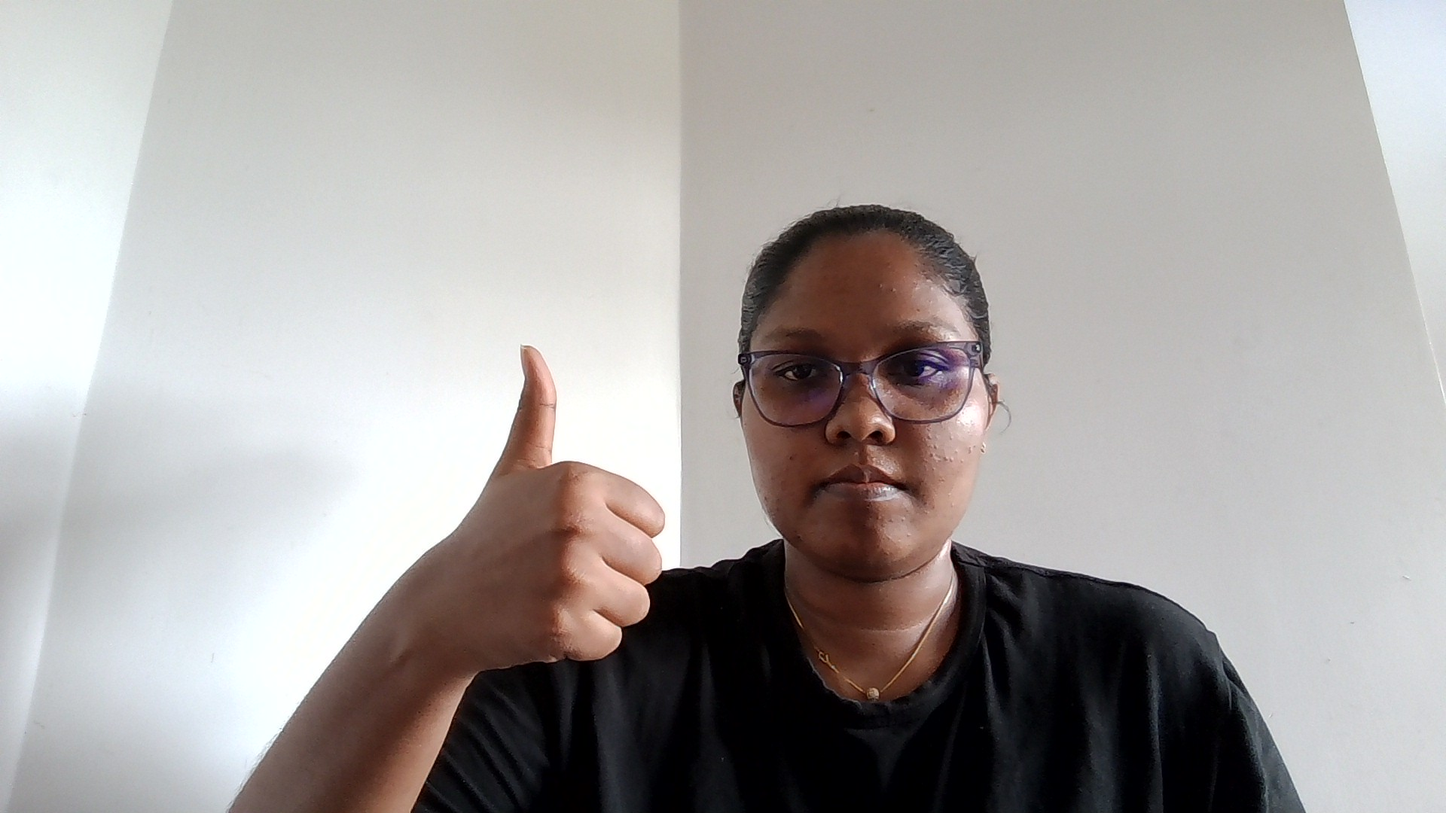Thumbs Up: (378, 318, 753, 748)
